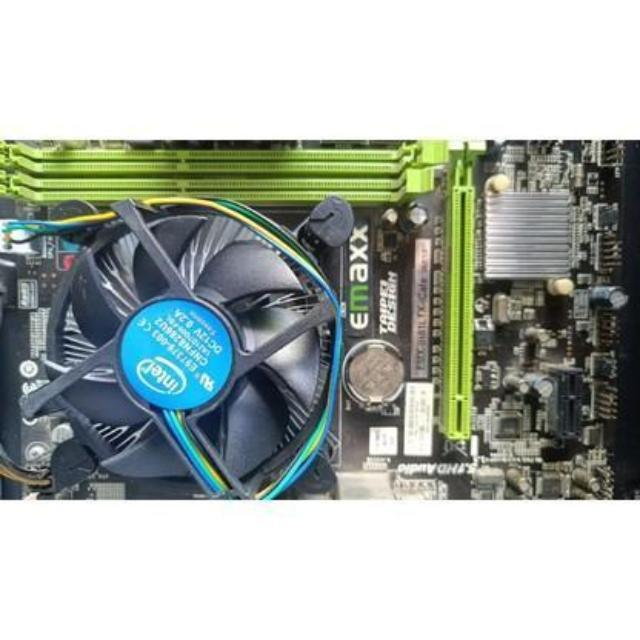CPU_Fan: (48, 207, 346, 498)
